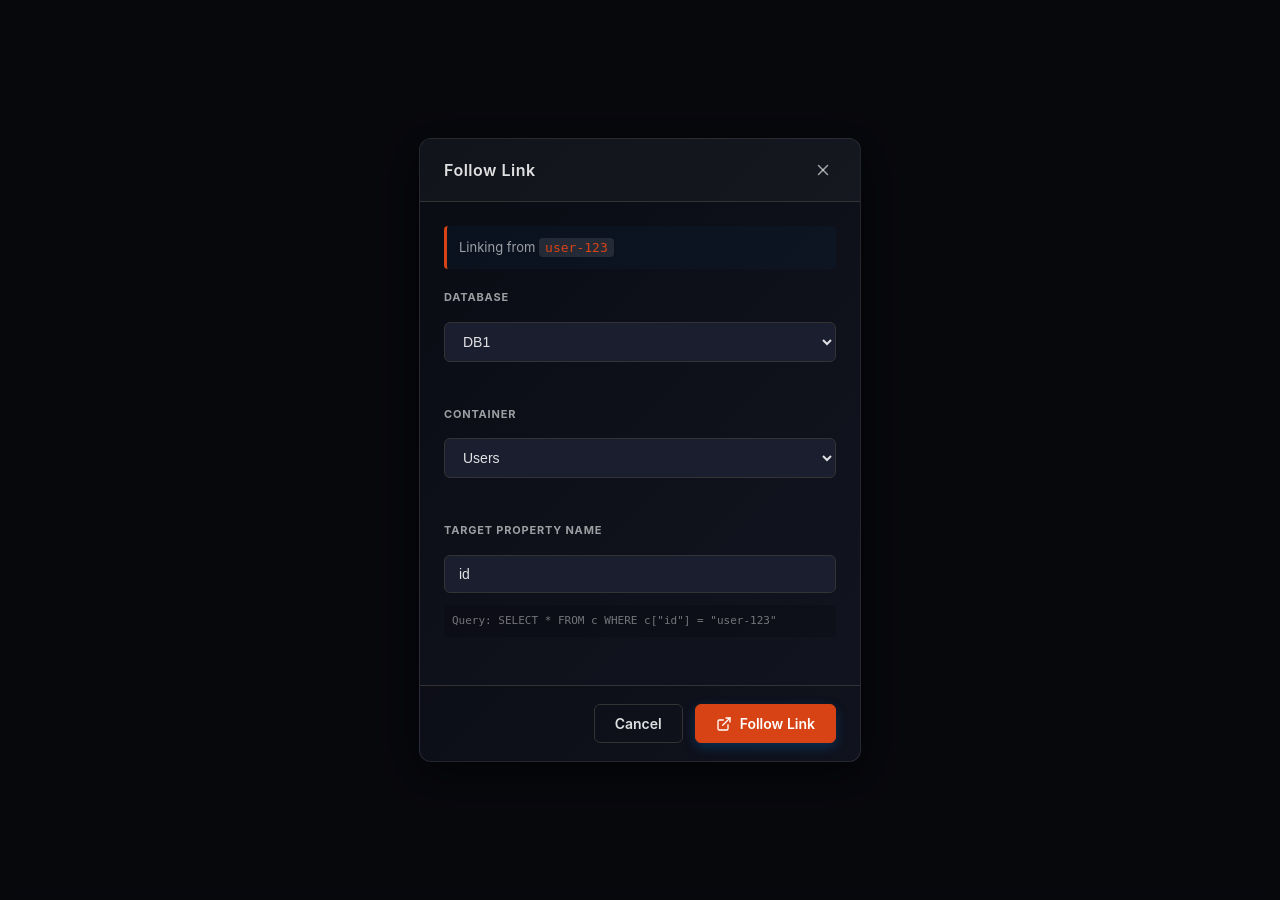
Test case: FollowLinkDialog › changes container options when DB changes
Select "DB2" in the dropdown labelled "Database" at (640, 342), box [444, 322, 836, 362]
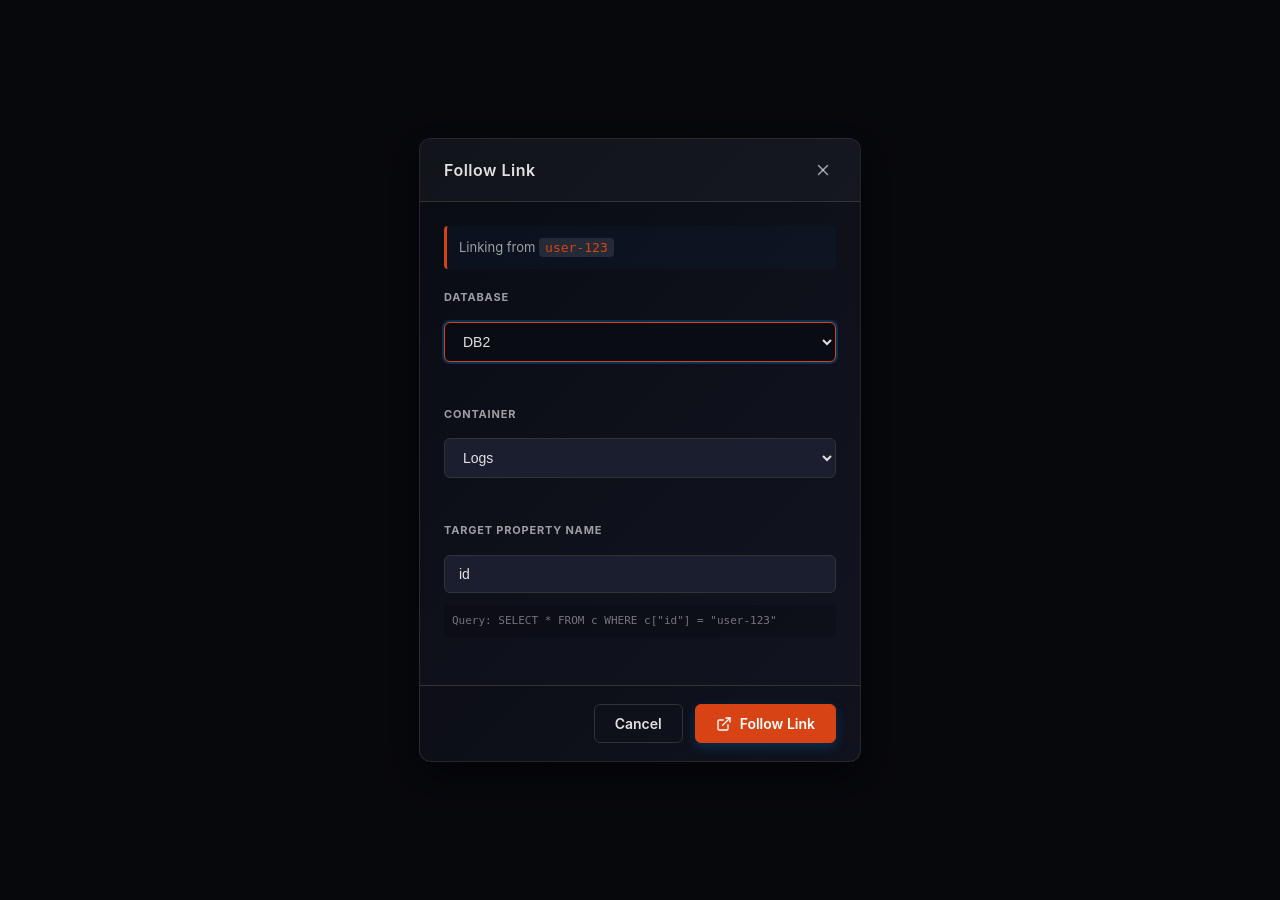
Now the dropdown labelled "Container" shows "Logs", box [444, 438, 836, 478]
